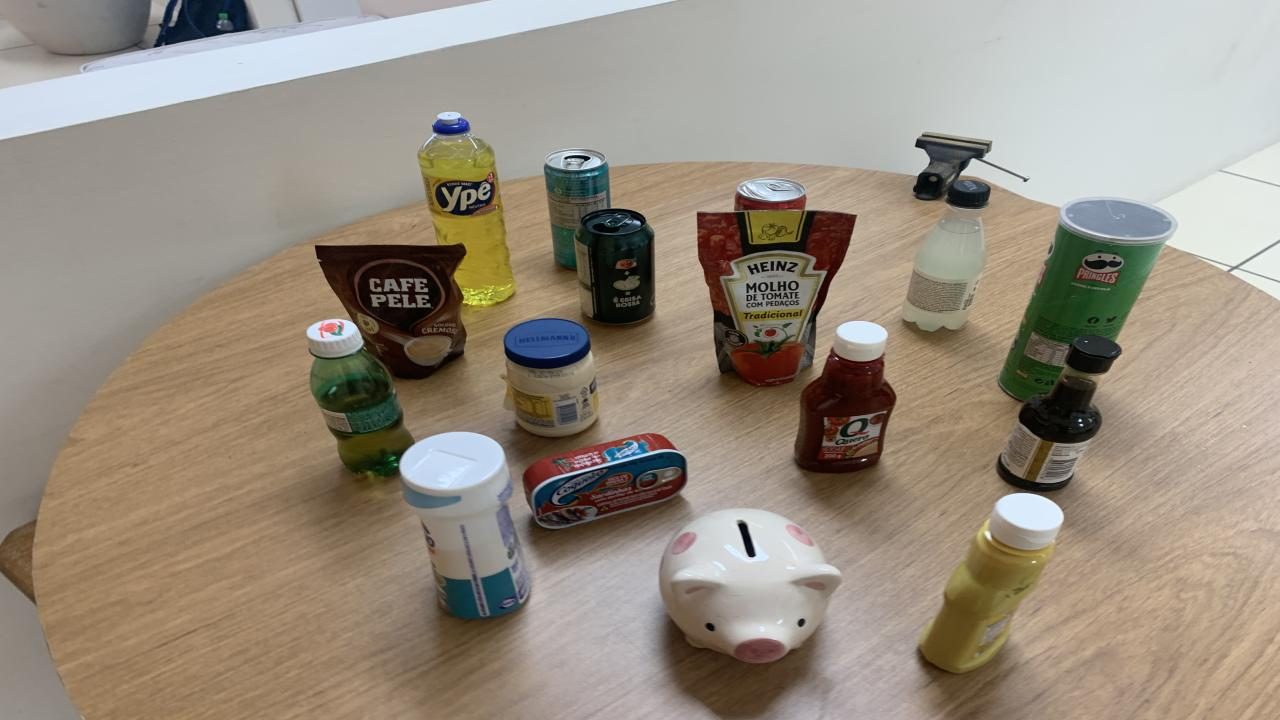Cleaner-Cleanup_Items: (400, 431, 530, 619)
Coffee-Pantry_Items: (315, 244, 465, 379)
Coke-Drinks: (735, 178, 808, 212)
Detergent-Cleanup_Items: (418, 112, 515, 306)
English_Sauce-Pantry_Items: (998, 336, 1122, 491)
Guarana-Drinks: (308, 319, 415, 476)
Guarana_Can-Drinks: (575, 208, 655, 324)
Ketchup-Pantry_Items: (795, 321, 895, 472)
Mayonnaise-Pantry_Items: (502, 319, 598, 437)
Mustard-Pantry_Items: (920, 493, 1062, 673)
Pig_Safe-Miscellaneous: (660, 508, 842, 664)
Pringles-Snacks: (998, 197, 1178, 399)
Soda-Drinks: (902, 180, 990, 332)
Tea-Drinks: (545, 148, 610, 268)
Tomato_Sauce-Pantry_Items: (698, 210, 855, 386)
Tuna_Can-Pantry_Items: (522, 433, 688, 529)
